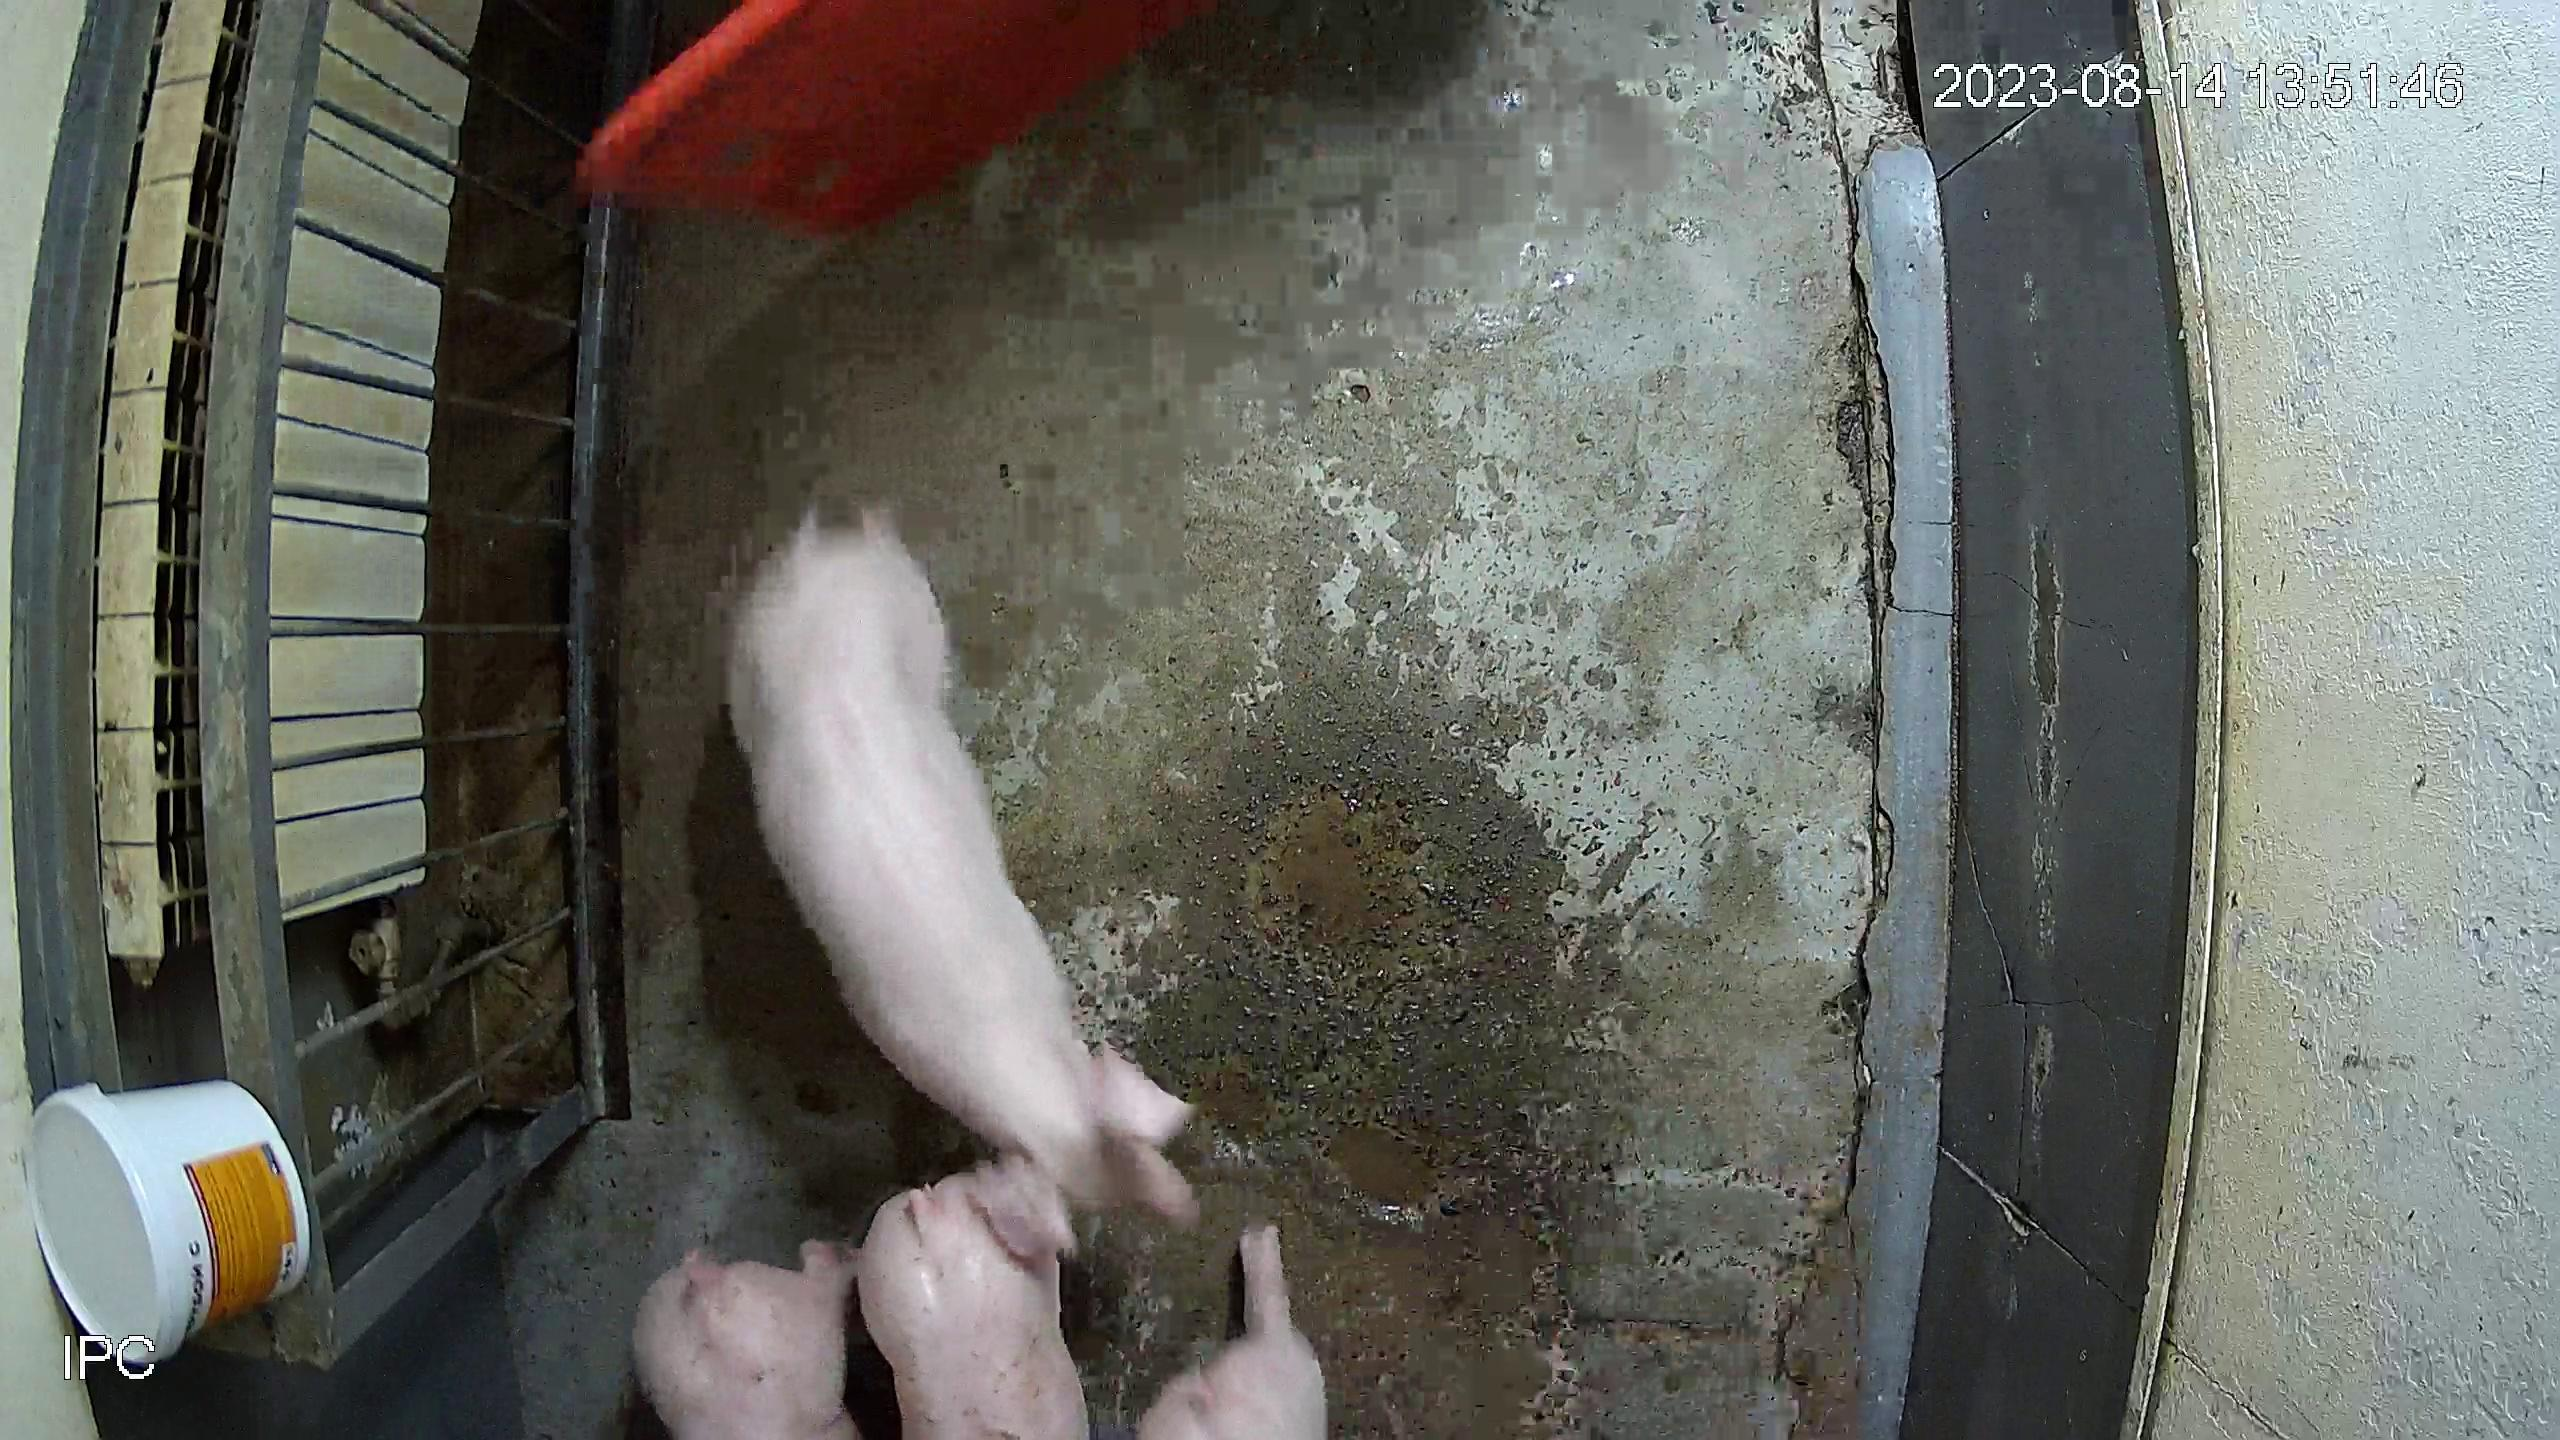Panel: (577, 0, 1211, 227)
Pig: (730, 517, 1190, 1217), (856, 1169, 1088, 1440), (631, 1241, 856, 1440), (1138, 1227, 1327, 1440)
